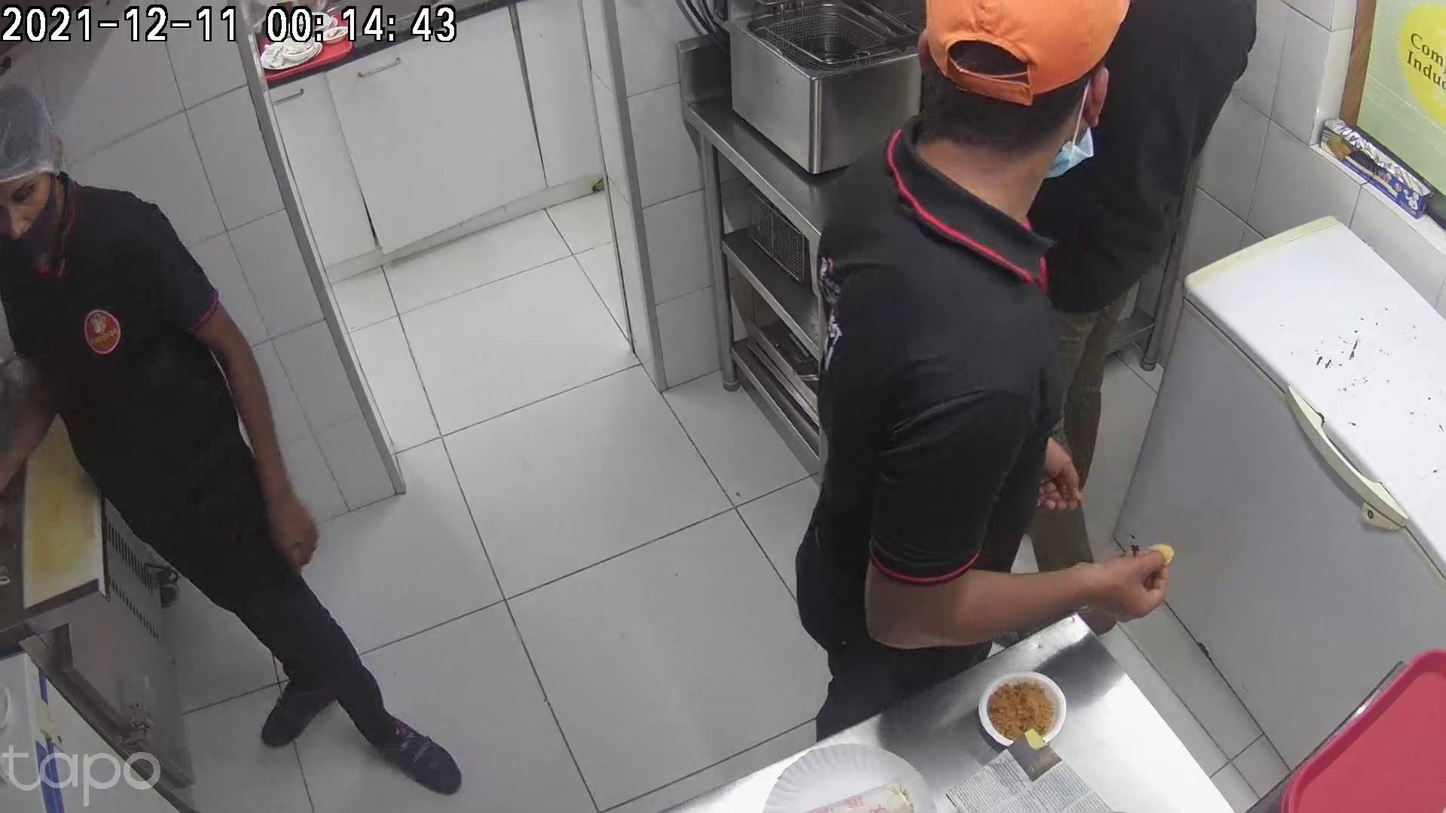gloves: (582, 538, 710, 731)
